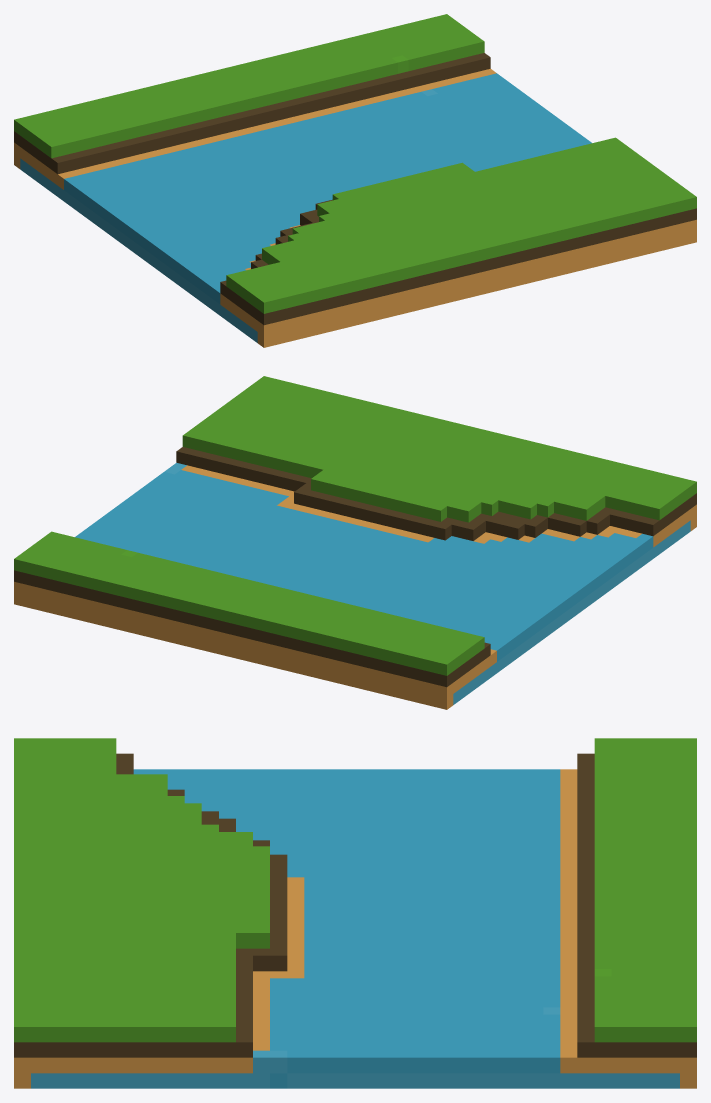
Rendered from river-0.obj.
3 renders of one model, top to bottom at view 1: azimuth 30°, elevation 25°; view 2: azimuth 150°, elevation 25°; view 3: azimuth 270°, elevation 25°, orthographic. The views are drawn at different scales.
Size of the model in its own units: 4 by 0.4 by 4.
Materials: 1 (1 with a texture image).
